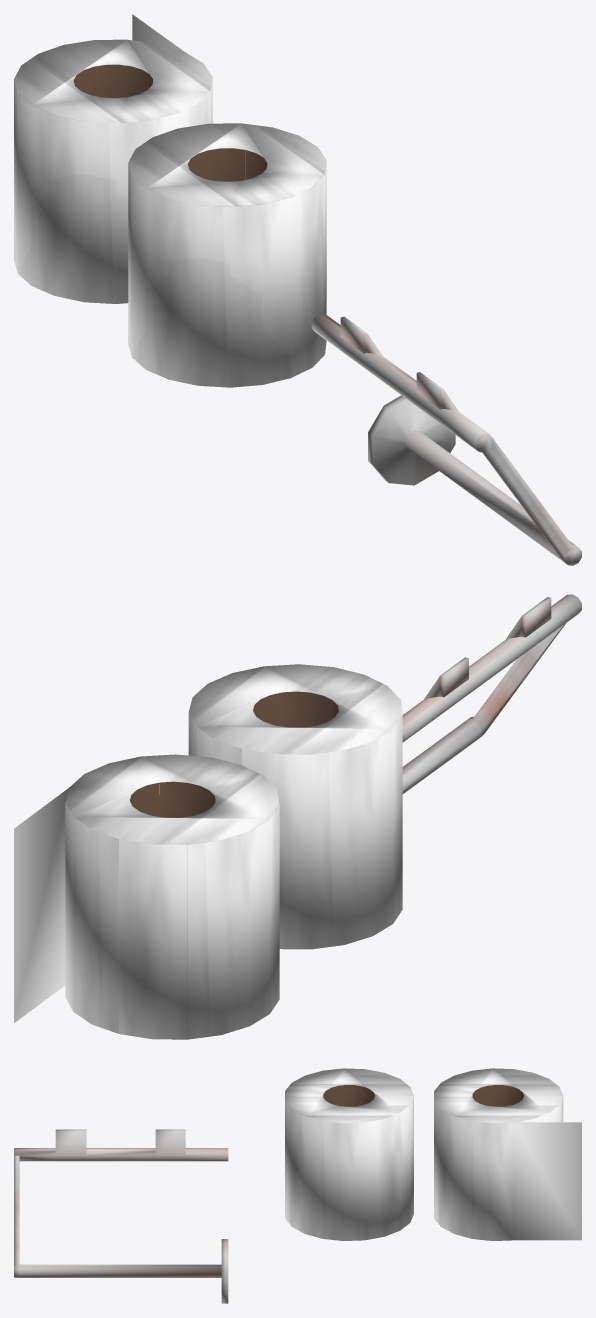
The model's file is ToiletPaper.fbx.
3 views of the same model, one above another, from view 1: azimuth 30°, elevation 25°; view 2: azimuth 150°, elevation 25°; view 3: azimuth 270°, elevation 25° (orthographic). The views are drawn at different scales.
Visible parts, largest first — view 1: ToiletPaper1, ToiletPaper2, ToiletPaperHolder1; view 2: ToiletPaper2, ToiletPaper1, ToiletPaperHolder1; view 3: ToiletPaper2, ToiletPaper1, ToiletPaperHolder1.
Part boxes in pixels (box(x1,y1,x2,y2)): ToiletPaper1: box(128, 123, 326, 387); ToiletPaper2: box(14, 14, 212, 303); ToiletPaperHolder1: box(311, 313, 581, 565); ToiletPaper2: box(14, 754, 279, 1039); ToiletPaper1: box(188, 664, 402, 949); ToiletPaperHolder1: box(402, 594, 581, 794); ToiletPaper2: box(434, 1068, 581, 1240); ToiletPaper1: box(285, 1068, 413, 1240); ToiletPaperHolder1: box(14, 1129, 228, 1303).
Bounding box in the file's own units: 251 × 300 × 873.
